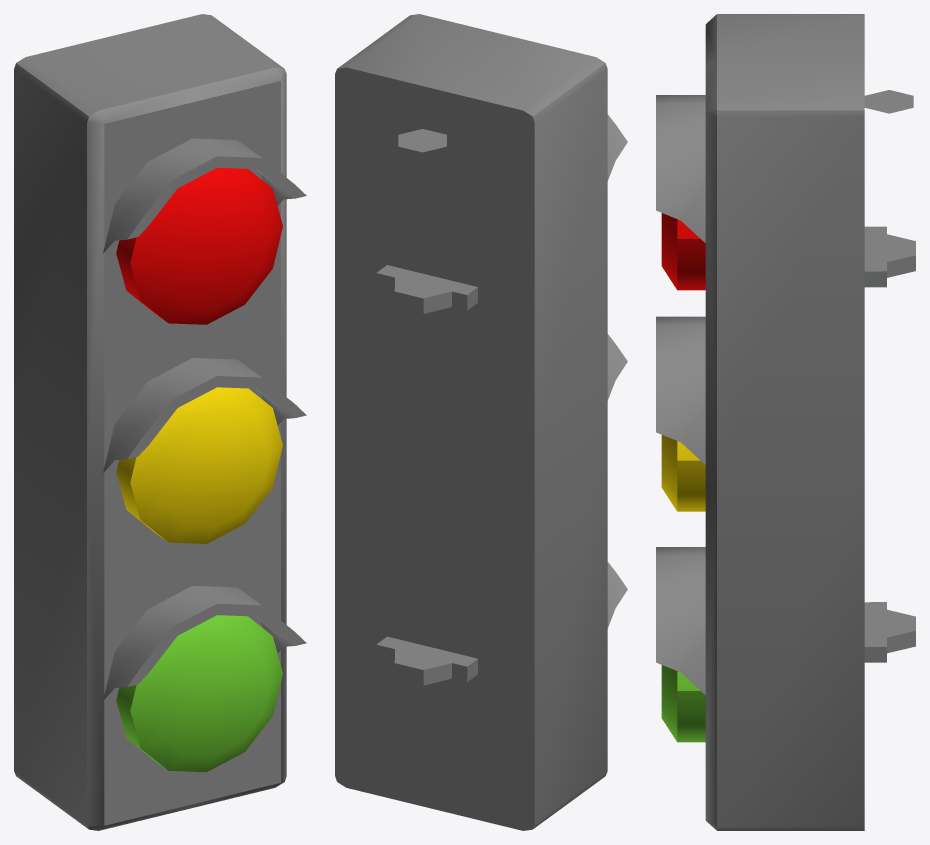
Rendered from d8ab77f5-8337-4225-9f8e-b6435dcbbc75.glb.
The picture shows the model from 3 angles, left to right: view 1: azimuth 30°, elevation 25°; view 2: azimuth 150°, elevation 25°; view 3: azimuth 270°, elevation 25°; orthographic projection.
Visible parts, largest first — view 1: Regroup0, Duplica0, Cylinder, Duplicat; view 2: Regroup0; view 3: Regroup0, Cylinder, Duplica0, Duplicat.
Boxes of the visible parts, x1,y1,x2,y2 form: Regroup0: (14,14,306,830); Duplica0: (116,615,282,772); Cylinder: (116,167,282,324); Duplicat: (116,387,282,543); Regroup0: (335,14,627,830); Regroup0: (656,14,915,830); Cylinder: (661,213,705,290); Duplica0: (661,665,705,742); Duplicat: (661,435,705,511).
Bounding box in the file's own units: 63.38 × 219 × 70.71.
